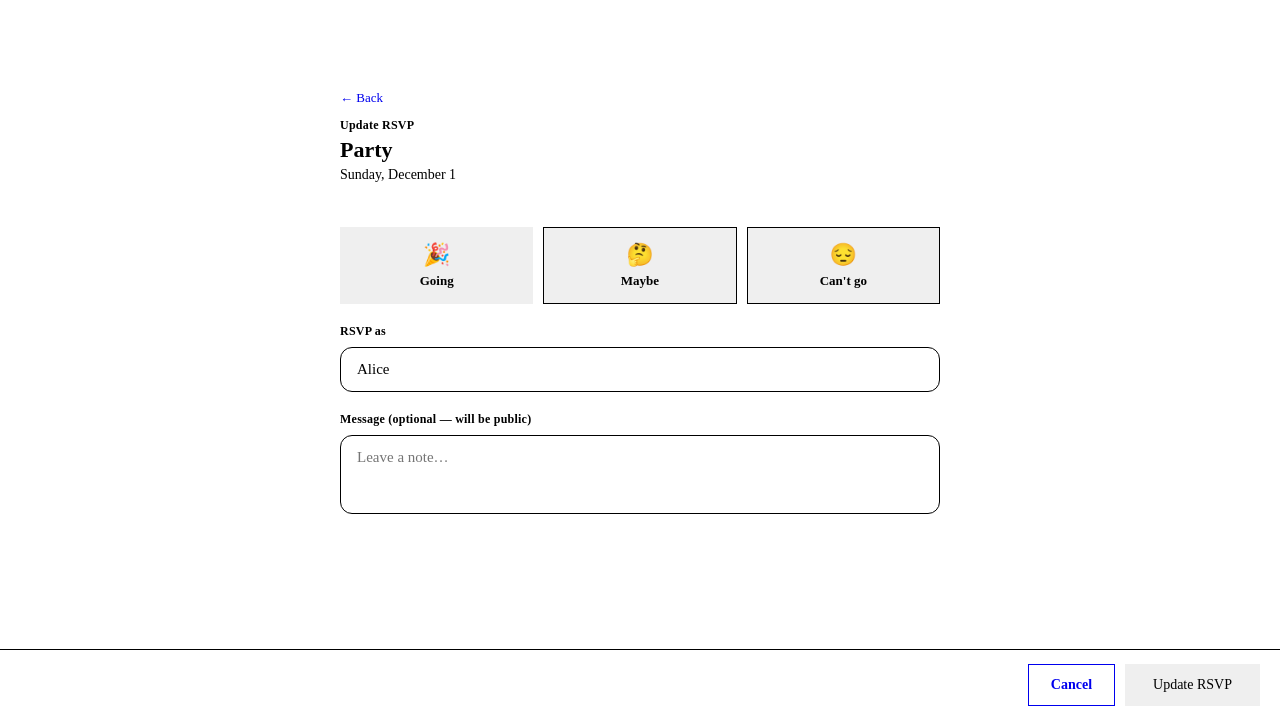
#754 edit-link box on the RSVP done screen › shows a host editing a guest with a contact neither box nor guest reassurance
The image size is (1280, 720).
Click the button "Update RSVP": (1192, 685) [1125,664,1260,706]
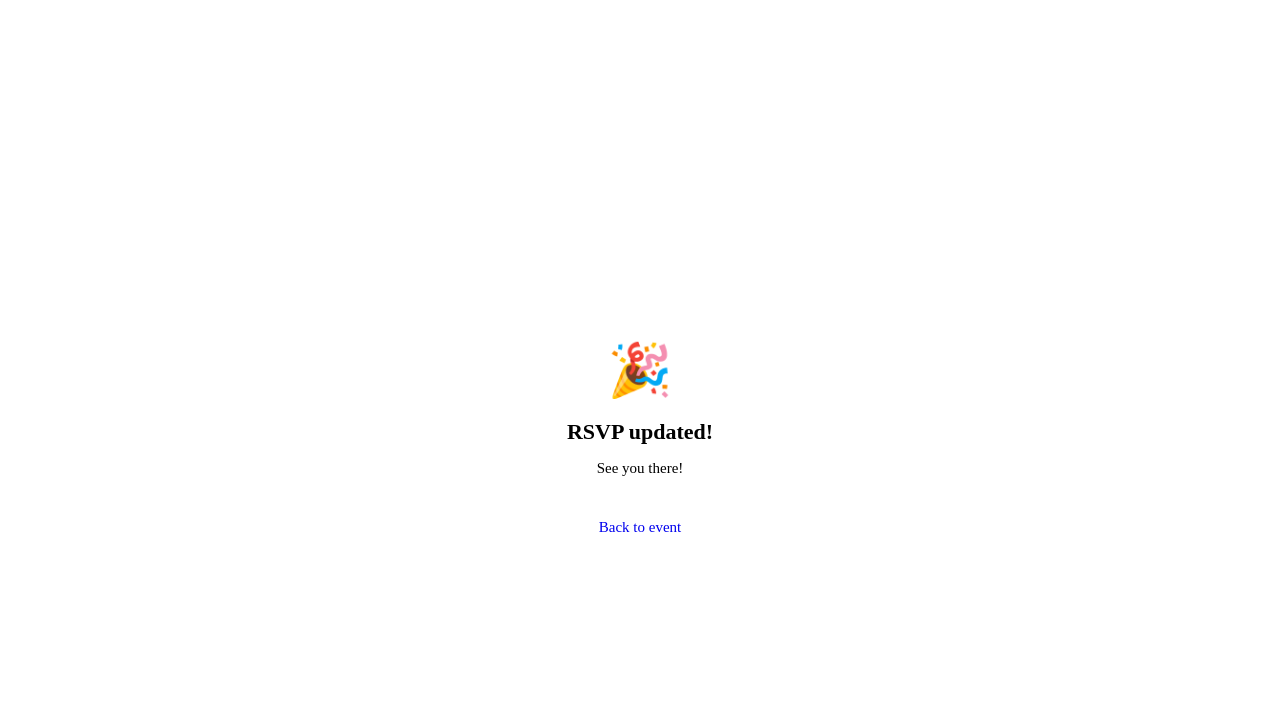
Now the heading "RSVP updated!" is shown, box [567,419,713,444]
